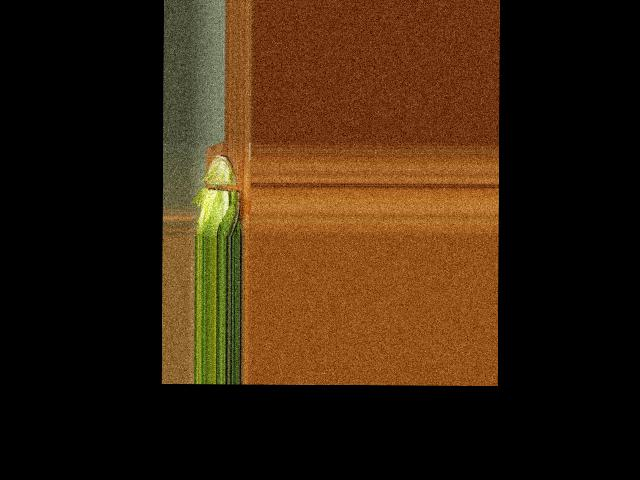lettuce: (193, 156, 245, 235)
